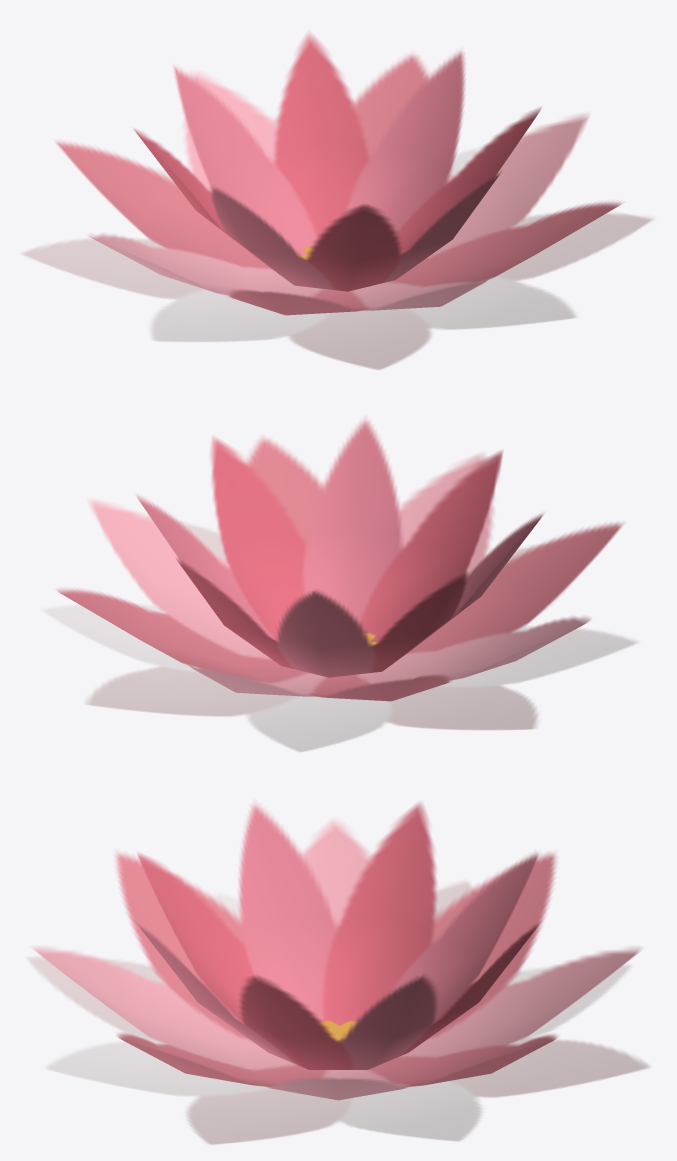
File: Water_Lily_Blossom_1.gltf
3 renders of one model, top to bottom at view 1: azimuth 30°, elevation 25°; view 2: azimuth 150°, elevation 25°; view 3: azimuth 270°, elevation 25°, orthographic. The views are drawn at different scales.
Visible parts, largest first — view 1: Water_Lily_Blossom_1; view 2: Water_Lily_Blossom_1; view 3: Water_Lily_Blossom_1.
Part boxes in pixels (bbox=[...]): Water_Lily_Blossom_1: bbox=[19, 32, 654, 369]; Water_Lily_Blossom_1: bbox=[39, 417, 639, 752]; Water_Lily_Blossom_1: bbox=[25, 802, 651, 1144].
Bounding box in the file's own units: 0.2029 × 0.0649 × 0.2029.
Materials: 1 (1 with a texture image).
